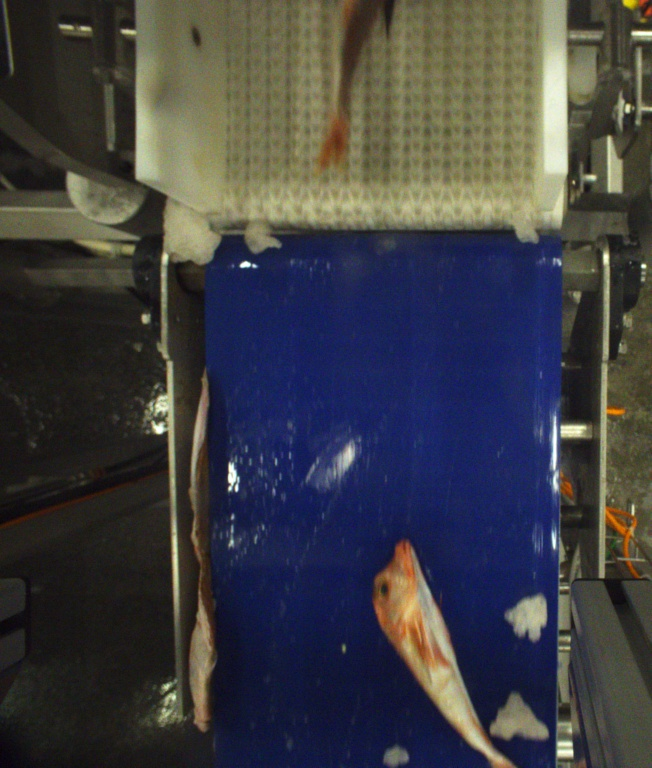GUU: (319, 0, 399, 169)
